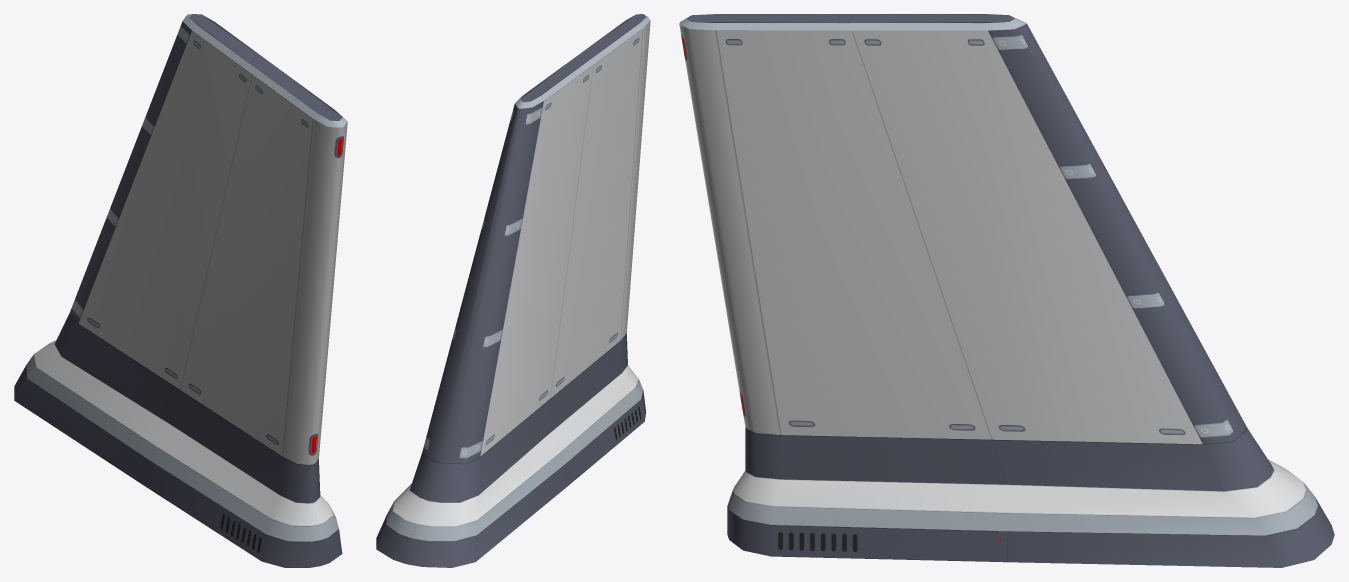
The model's file is Wing_01.FBX.
3 views of the same model, side by side, from view 1: azimuth 30°, elevation 25°; view 2: azimuth 150°, elevation 25°; view 3: azimuth 270°, elevation 25° (orthographic). The views are drawn at different scales.
Visible parts, largest first — view 1: Wing_01; view 2: Wing_01; view 3: Wing_01.
Boxes of the visible parts, x1,y1,x2,y2 form: Wing_01: (14,14,347,567); Wing_01: (376,14,650,567); Wing_01: (679,14,1334,567).
Bounding box in the file's own units: 1.65 × 6 × 6.91.
Materials: 1 (1 with a texture image).
